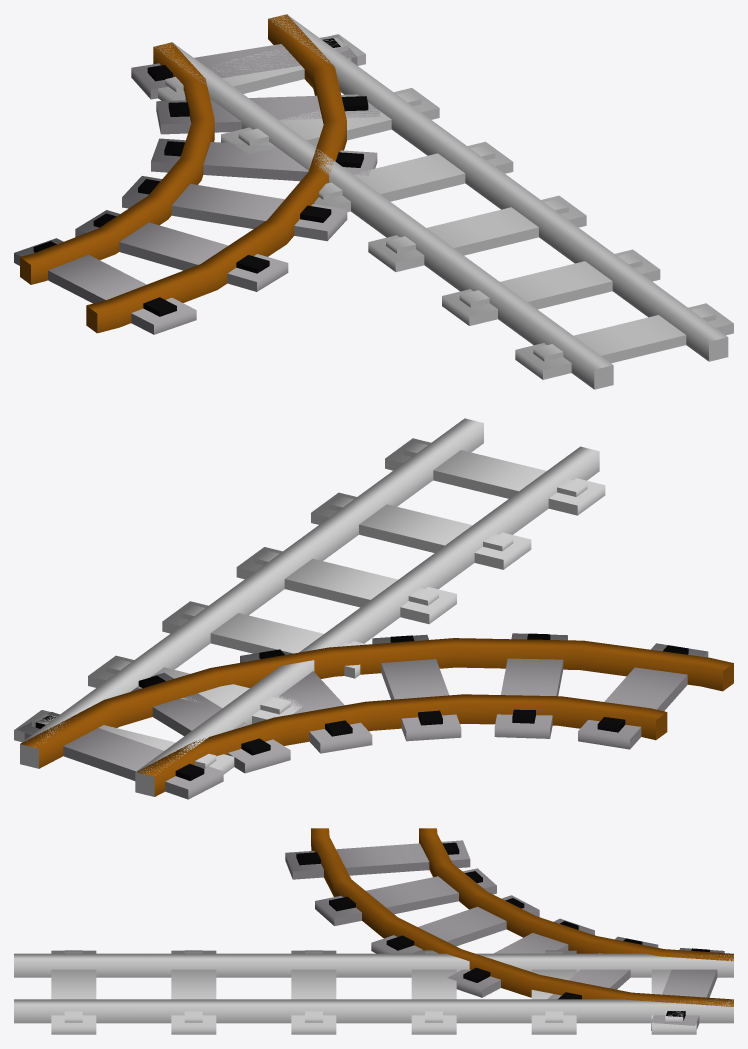
File: rails_merge_8.obj
3 views of the same model, one above another, from view 1: azimuth 30°, elevation 25°; view 2: azimuth 150°, elevation 25°; view 3: azimuth 270°, elevation 25° (orthographic). The views are drawn at different scales.
Parts seen in each view (by area): view 1: railroad-straight, railroad-corner-small; view 2: railroad-corner-small, railroad-straight; view 3: railroad-straight, railroad-corner-small.
Boxes of the visible parts, x1,y1,x2,y2 form: railroad-straight: (151, 14, 733, 389); railroad-corner-small: (14, 14, 380, 334); railroad-corner-small: (17, 633, 733, 799); railroad-straight: (14, 418, 605, 796); railroad-straight: (14, 950, 733, 1034); railroad-corner-small: (285, 828, 733, 1030).
Size of the model in its own units: 0.625 by 0.025 by 1.
